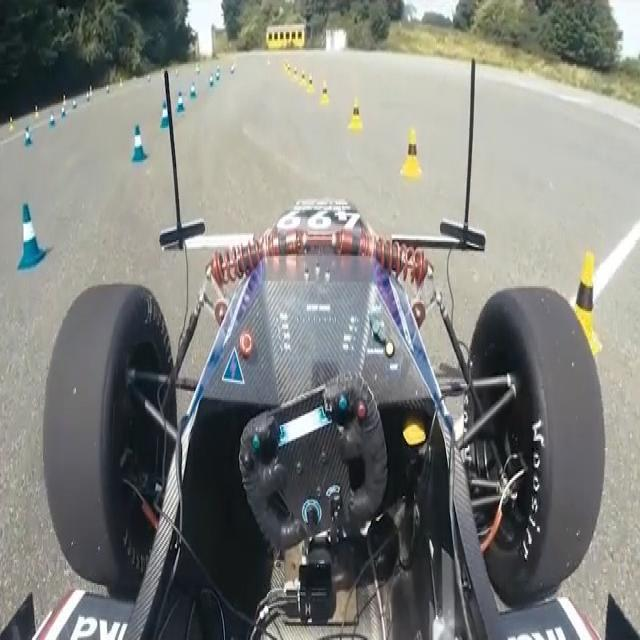blue_cone: (6, 184, 56, 268), (121, 108, 166, 172)
yellow_cone: (554, 246, 610, 349), (391, 118, 437, 209), (348, 90, 362, 170), (316, 79, 331, 105)
